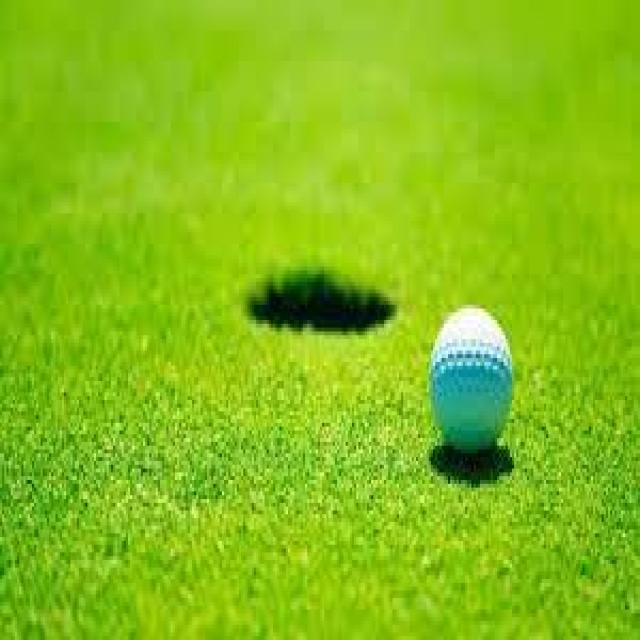ball: (422, 299, 524, 462)
